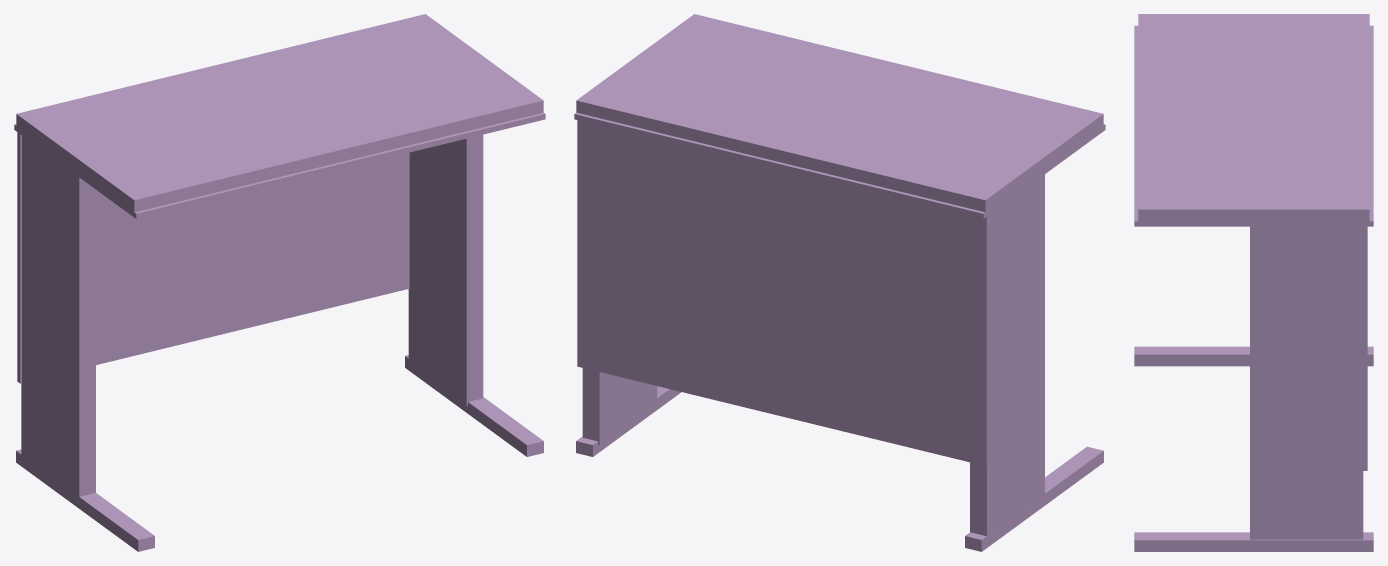
The model's file is test_desk01.fbx.
3 views of the same model, side by side, from view 1: azimuth 30°, elevation 25°; view 2: azimuth 150°, elevation 25°; view 3: azimuth 270°, elevation 25° (orthographic). The views are drawn at different scales.
Parts seen in each view (by area): view 1: pCube8; view 2: pCube8; view 3: pCube8.
Boxes of the visible parts, bbox=[...] form: pCube8: bbox=[14, 14, 545, 551]; pCube8: bbox=[574, 14, 1105, 551]; pCube8: bbox=[1134, 14, 1373, 551].
Size of the model in its own units: 400 by 327 by 207.
